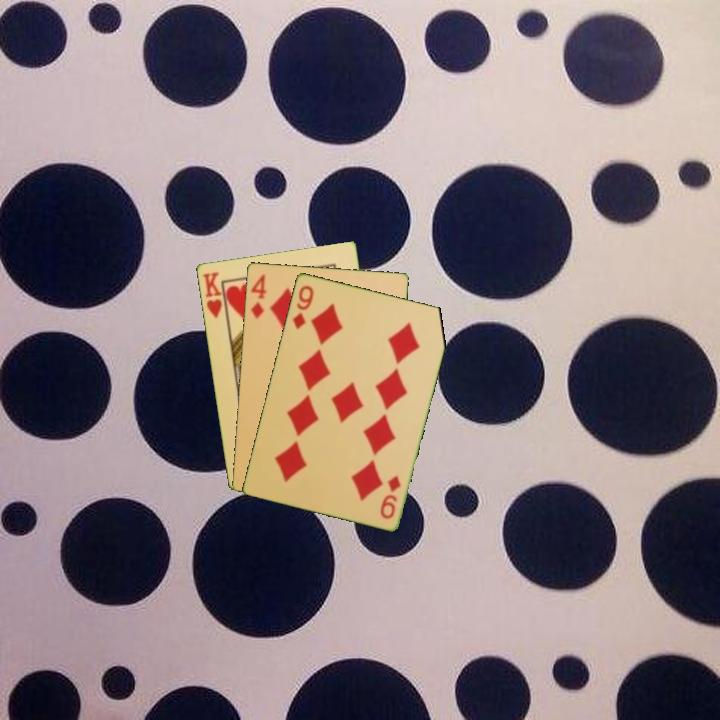4d: (247, 270, 269, 322)
9d: (376, 472, 404, 522), (289, 282, 316, 332)
Kh: (199, 268, 230, 322)
